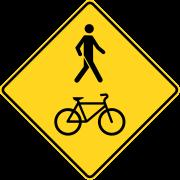Cycle Crossing: (27, 7, 157, 154)
